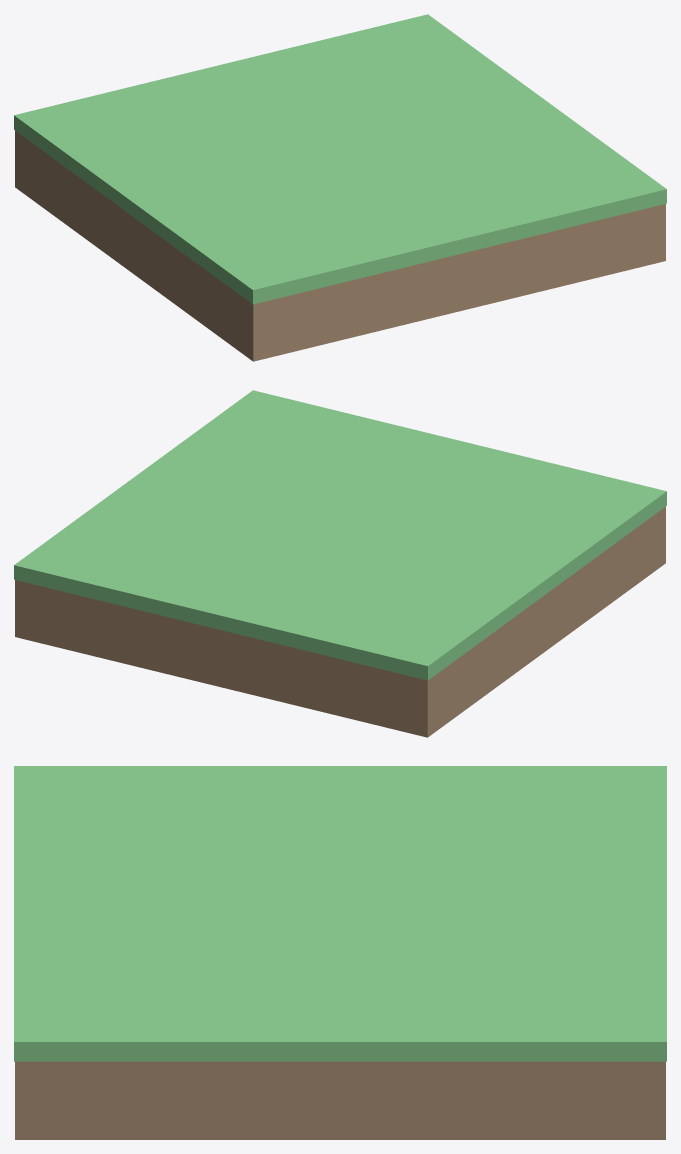
File: plat_6x6.gltf
3 renders of one model, top to bottom at view 1: azimuth 30°, elevation 25°; view 2: azimuth 150°, elevation 25°; view 3: azimuth 270°, elevation 25°, orthographic. The views are drawn at different scales.
Parts seen in each view (by area): view 1: plat_6x6_1, plat_6x6_0; view 2: plat_6x6_1, plat_6x6_0; view 3: plat_6x6_1, plat_6x6_0.
Boxes of the visible parts, x1,y1,x2,y2 form: plat_6x6_1: (14, 14, 666, 304); plat_6x6_0: (15, 130, 665, 361); plat_6x6_1: (14, 390, 666, 680); plat_6x6_0: (15, 506, 665, 737); plat_6x6_1: (14, 766, 666, 1061); plat_6x6_0: (15, 1061, 665, 1139).
Size of the model in its own units: 6.02 by 1 by 6.02.
